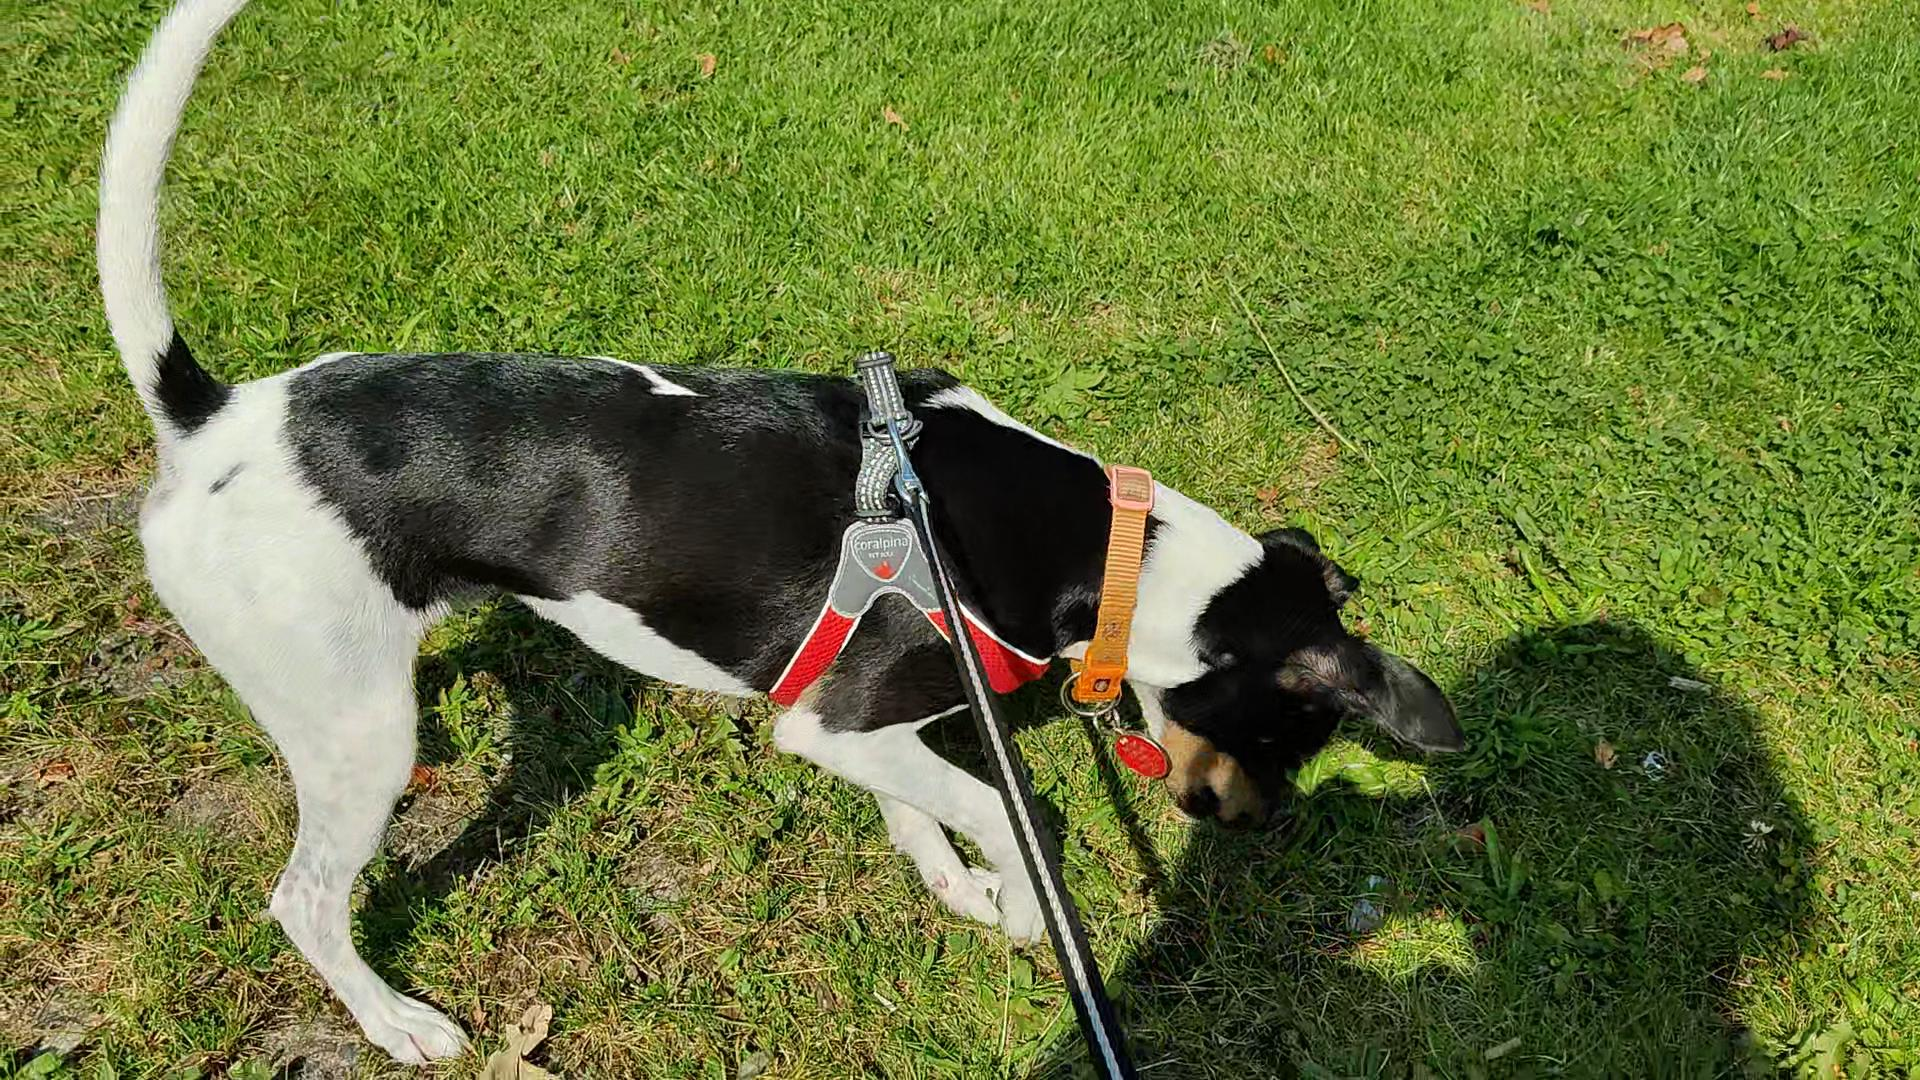Dog: (84, 0, 1466, 1079)
